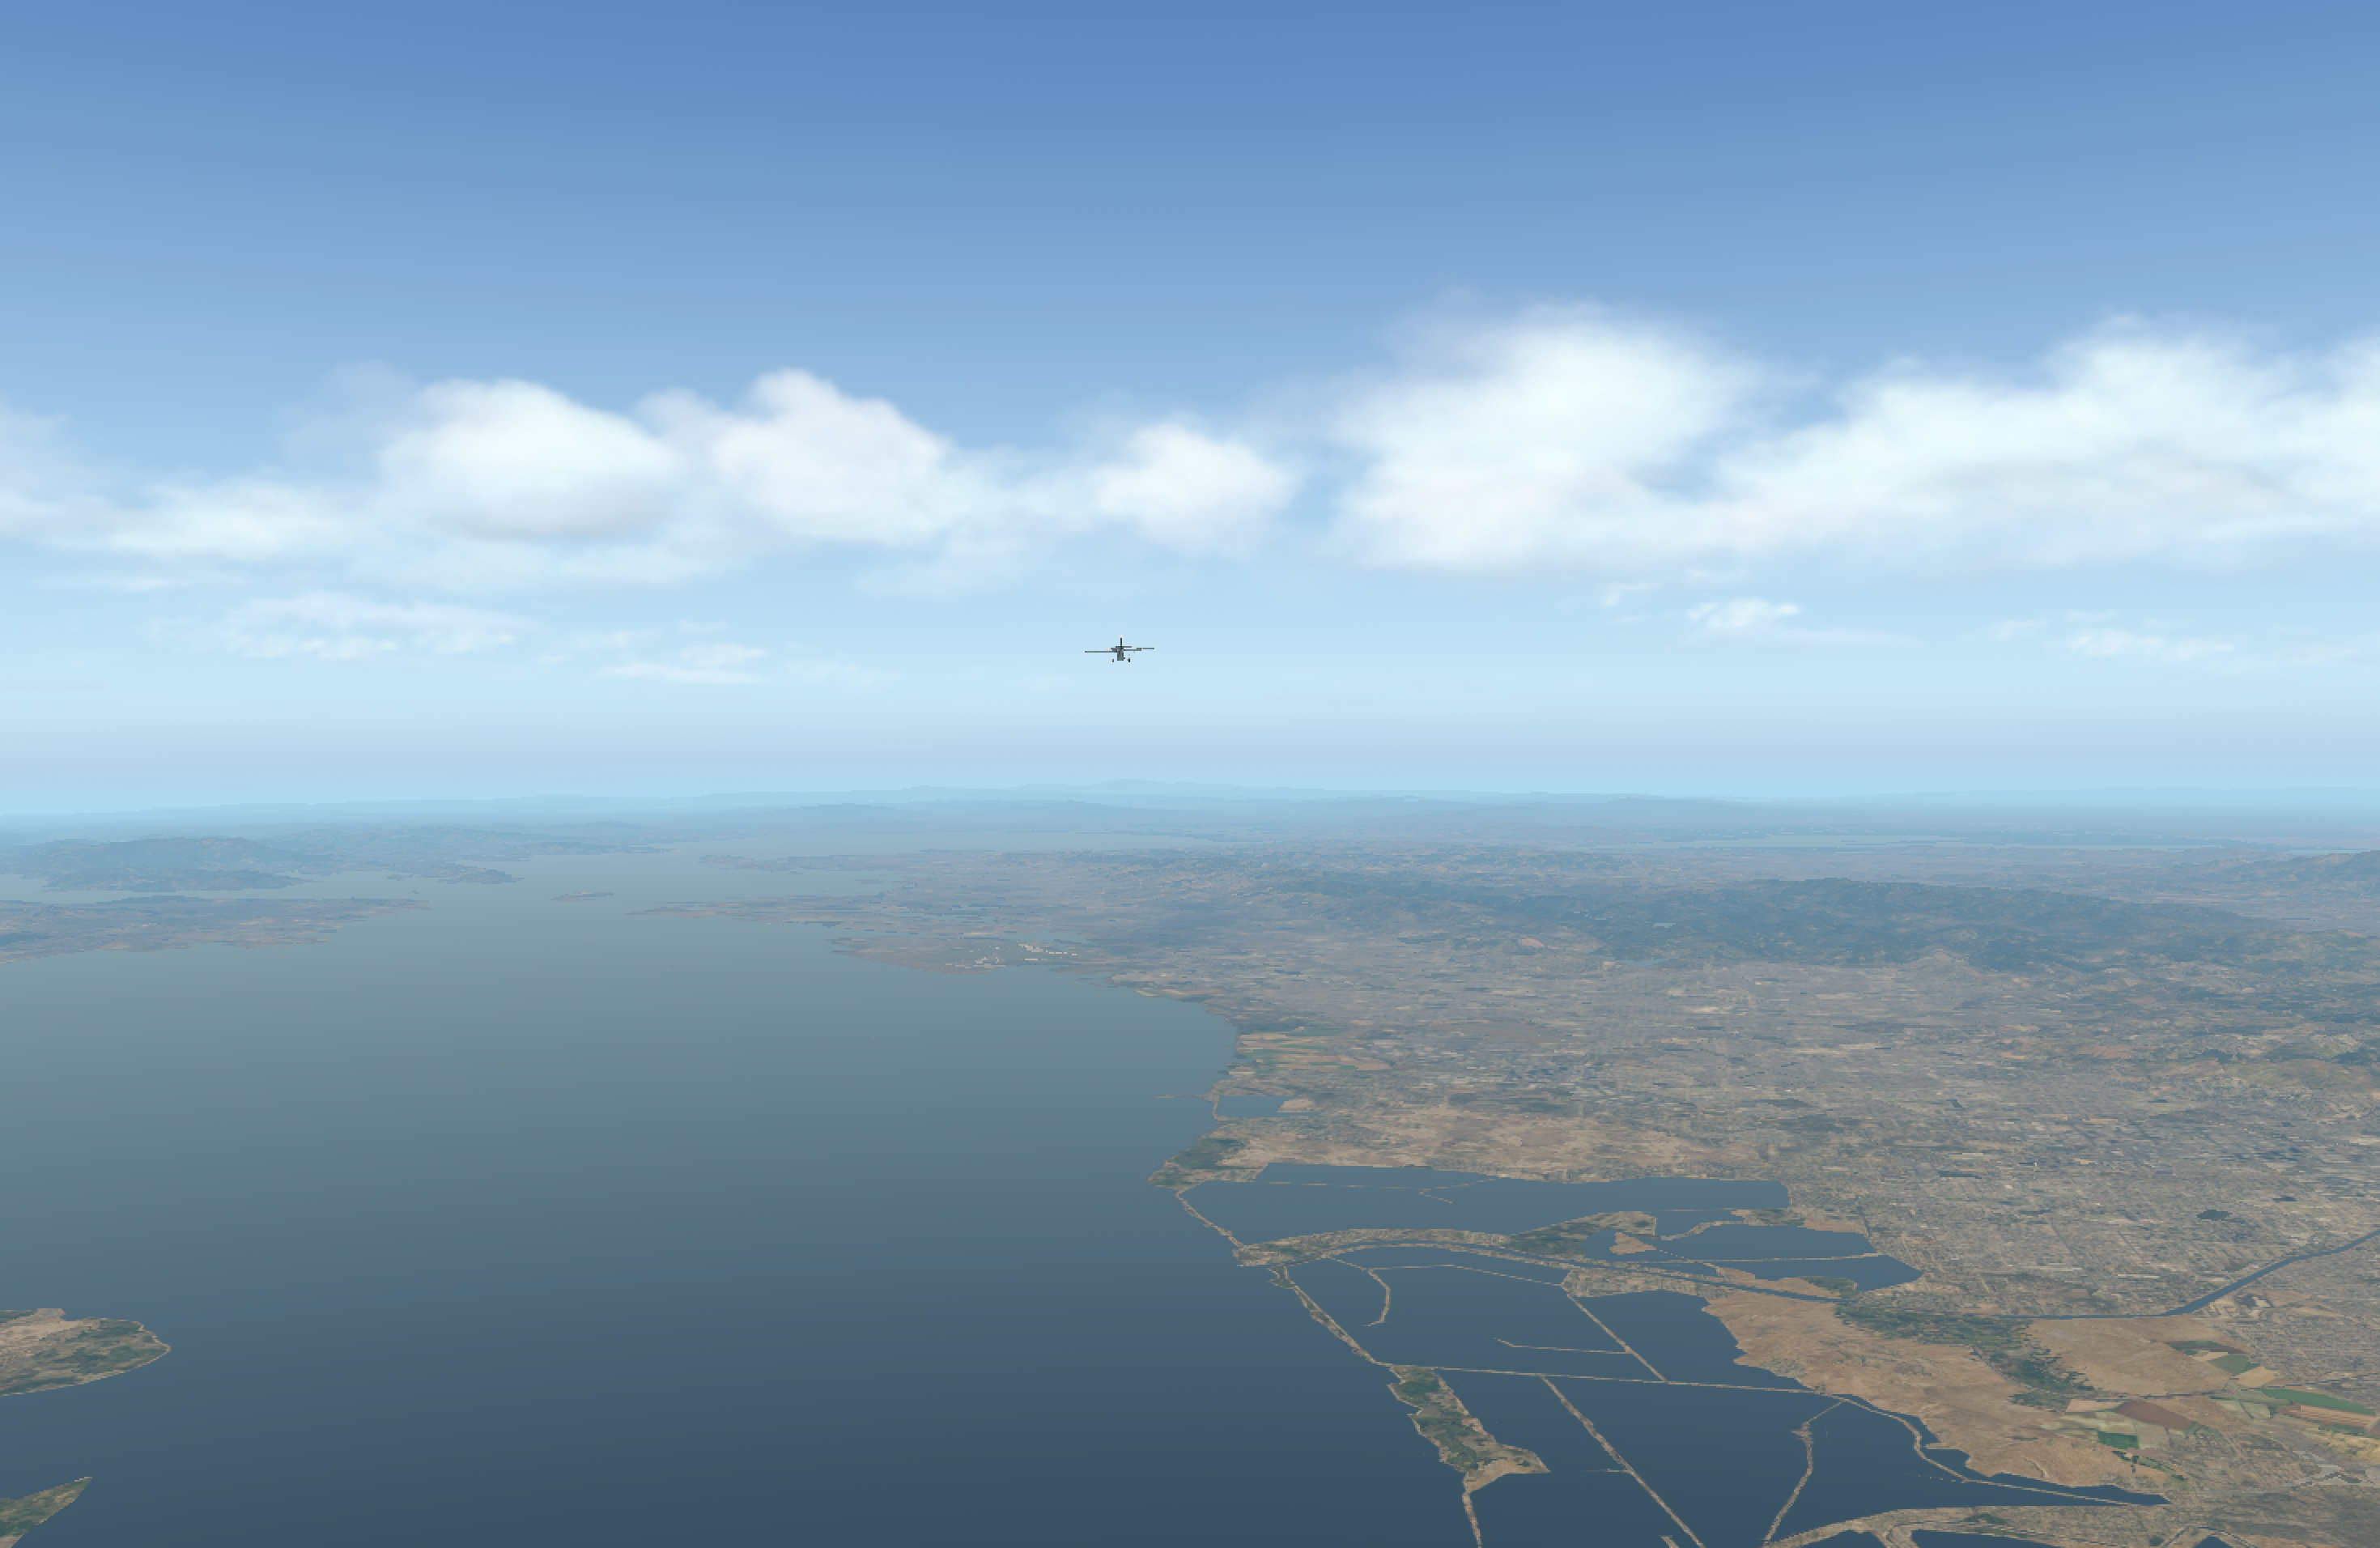aircraft: (1095, 646, 1145, 665)
